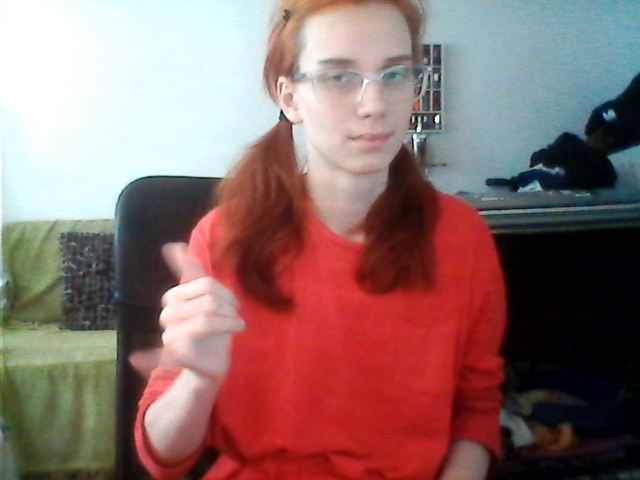ano: (122, 238, 253, 393)
